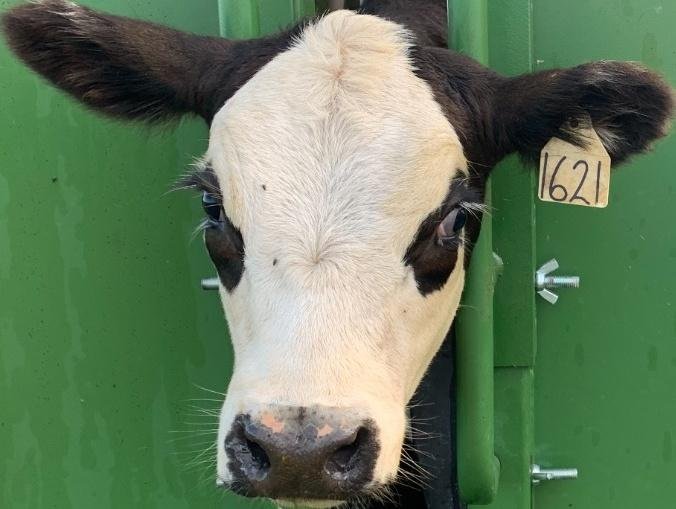muzzles: (200, 399, 411, 509)
